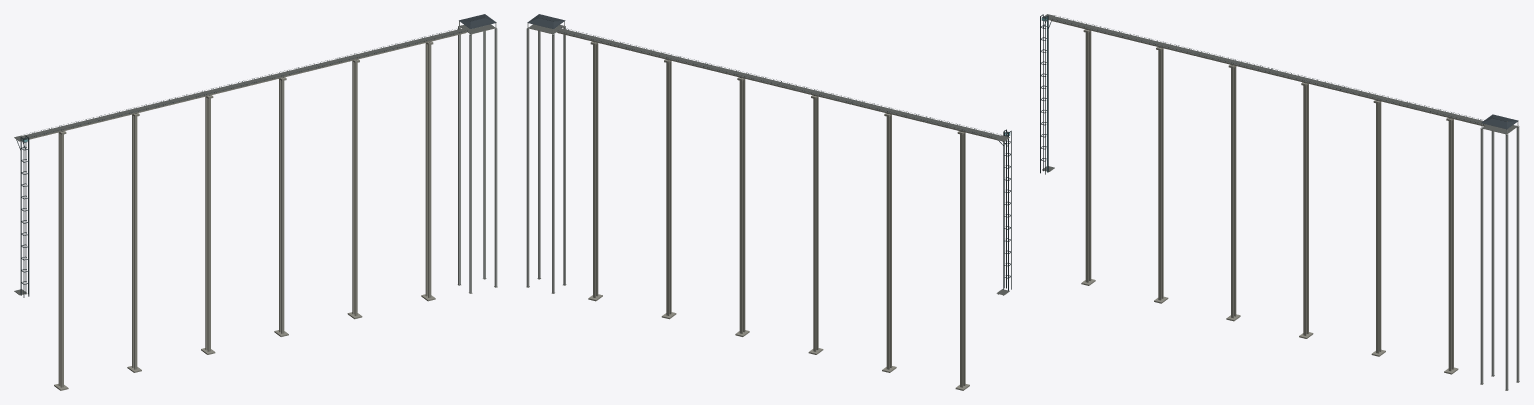
File: visual-far.glb
The picture shows the model from 3 angles, left to right: view 1: azimuth 30°, elevation 25°; view 2: azimuth 150°, elevation 25°; view 3: azimuth 330°, elevation 25°; orthographic projection.
Visible parts, largest first — view 1: 独立作者桥墩与实承支座 (×6), 混凝土足与金属柱 (×4), 连续桥板、双纵梁与实体护栏 (×6), 151米同轴四柱开放井架; view 2: 独立作者桥墩与实承支座 (×6), 混凝土足与金属柱 (×4), 连续桥板、双纵梁与实体护栏 (×6), 151米同轴四柱开放井架; view 3: 独立作者桥墩与实承支座 (×6), 混凝土足与金属柱 (×4), 连续桥板、双纵梁与实体护栏 (×6), 151米同轴四柱开放井架.
Part boxes in pixels (x1,y1,x2,y2): 独立作者桥墩与实承支座 (×6): [54, 41, 435, 390]; 混凝土足与金属柱 (×4): [457, 26, 497, 293]; 连续桥板、双纵梁与实体护栏 (×6): [22, 27, 467, 139]; 151米同轴四柱开放井架: [20, 136, 29, 297]; 独立作者桥墩与实承支座 (×6): [588, 41, 969, 390]; 混凝土足与金属柱 (×4): [526, 26, 566, 293]; 连续桥板、双纵梁与实体护栏 (×6): [557, 27, 1001, 140]; 151米同轴四柱开放井架: [1003, 129, 1011, 290]; 独立作者桥墩与实承支座 (×6): [1081, 29, 1458, 374]; 混凝土足与金属柱 (×4): [1480, 126, 1519, 390]; 连续桥板、双纵梁与实体护栏 (×6): [1050, 15, 1486, 126]; 151米同轴四柱开放井架: [1040, 14, 1048, 174].
Size of the model in its own units: 488 by 262 by 22.52.
Materials: 14 (14 with a texture image).
